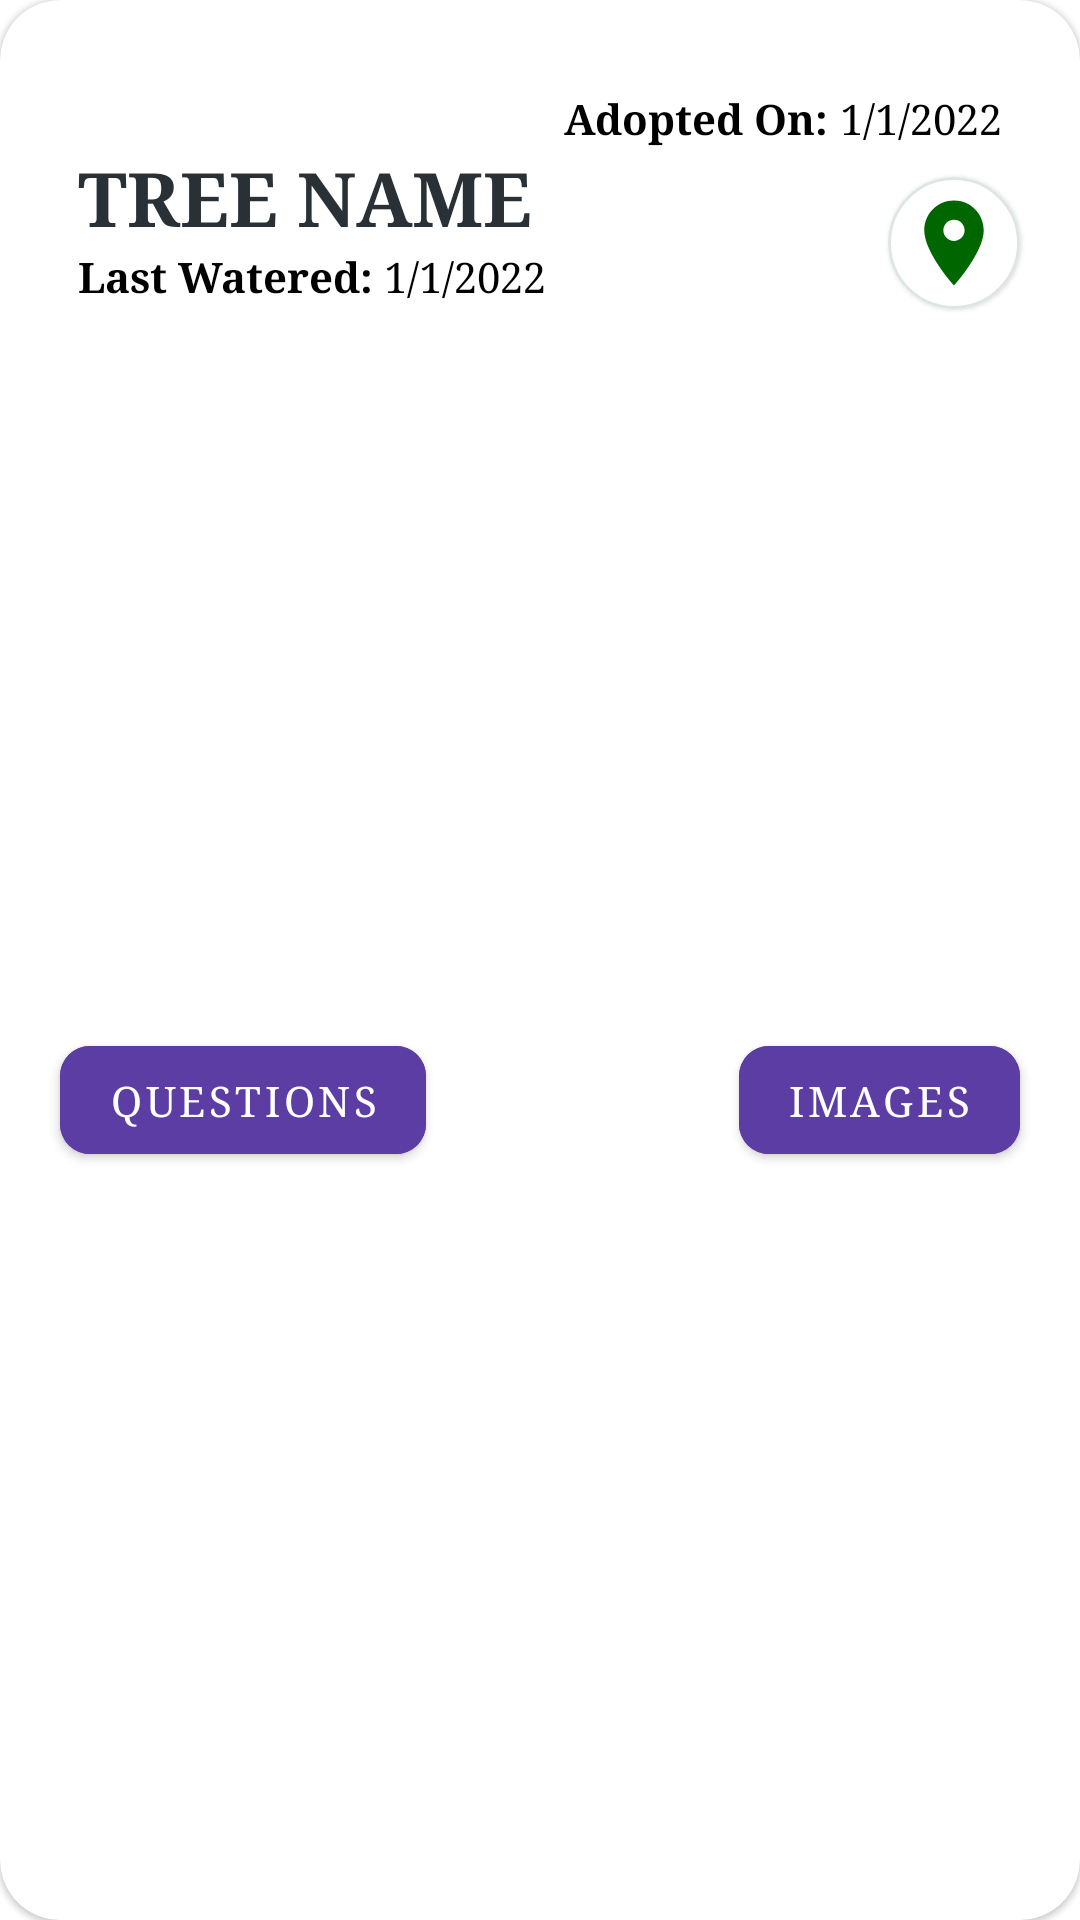

Screen size 1080w x 1920h. Icon name, then its center in pixels as [x,y]:
location on: [954,243]
